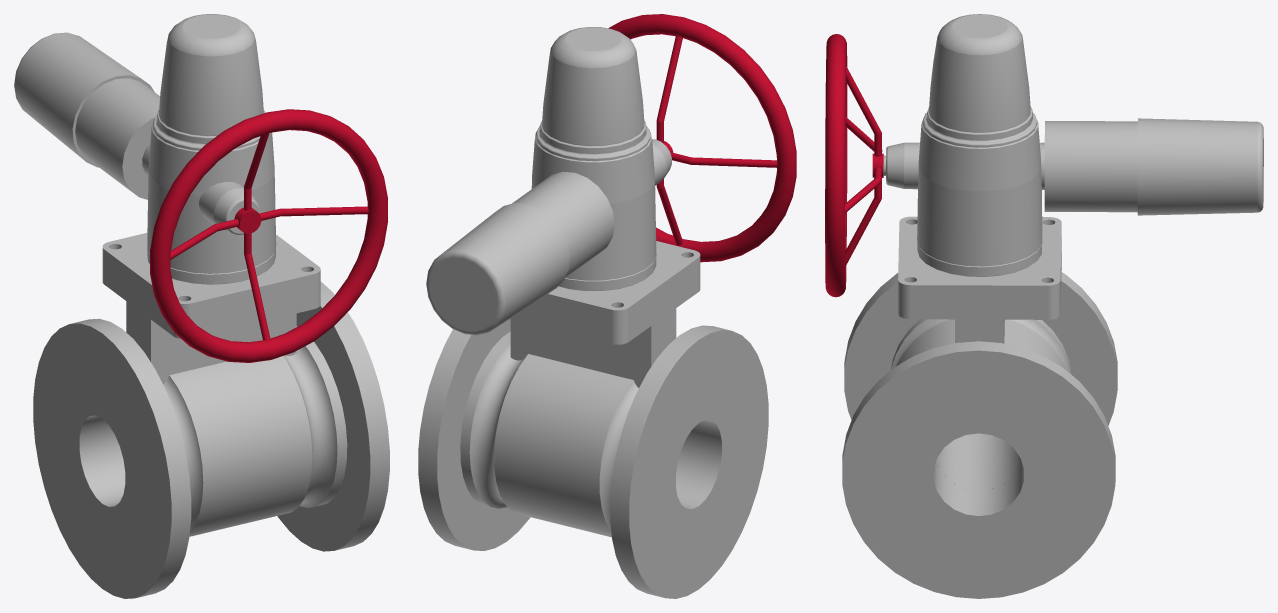
Rendered from Motor Actuator Ball Valve.FBX.
3 views of the same model, side by side, from view 1: azimuth 30°, elevation 25°; view 2: azimuth 150°, elevation 25°; view 3: azimuth 270°, elevation 25° (orthographic). The views are drawn at different scales.
Parts seen in each view (by area): view 1: Solid1 (×2); view 2: Solid1 (×2); view 3: Solid1 (×2), Solid3.
Boxes of the visible parts, bbox=[...] form: Solid1 (×2): bbox=[14, 14, 389, 598]; Solid1 (×2): bbox=[418, 14, 796, 598]; Solid1 (×2): bbox=[825, 14, 1263, 598]; Solid3: bbox=[936, 436, 1021, 490].
Size of the model in its own units: 13.44 by 28.32 by 21.61.
